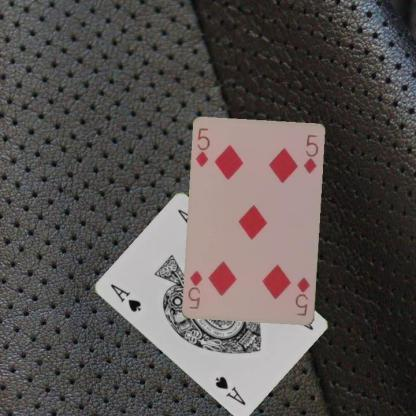5d: (293, 274, 311, 318), (193, 125, 211, 169)
As: (107, 282, 143, 314)
